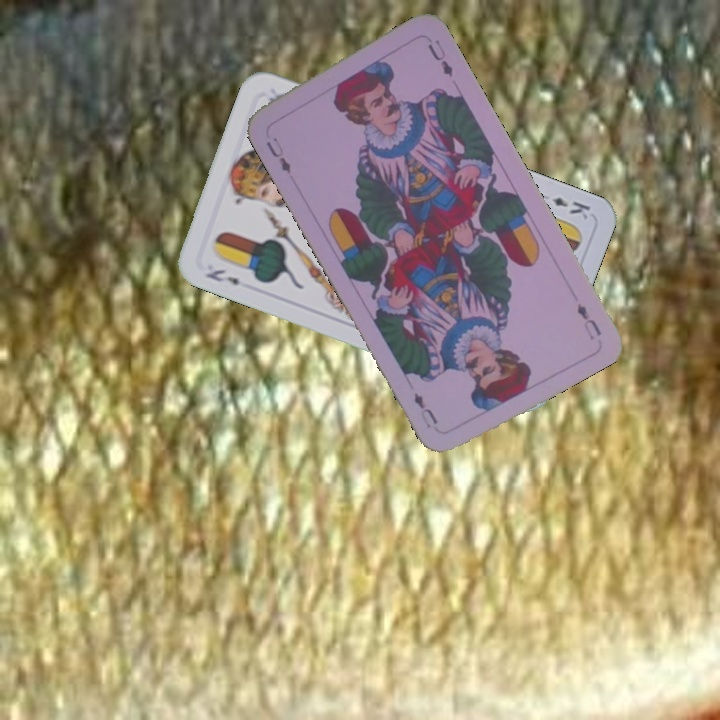EK: (548, 193, 593, 222), (201, 265, 242, 288)
EU: (261, 133, 296, 182), (572, 299, 604, 343)
